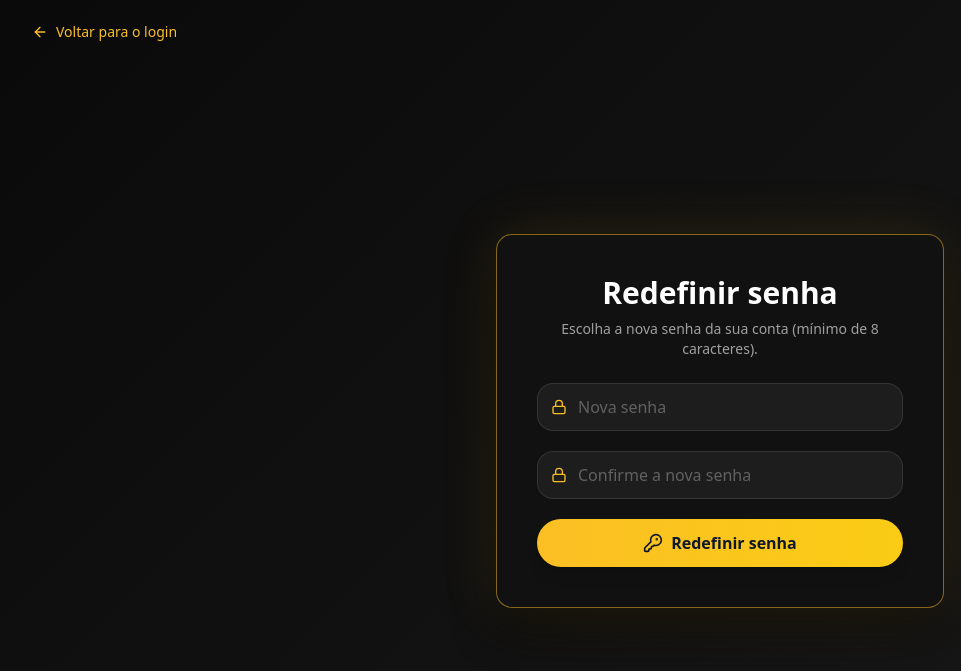
Test: RedefinirSenha › senha com menos de 8 caracteres é recusada
Type "1234567" into the password field with placeholder "Nova senha" at (720, 407), box [537,383,903,431]
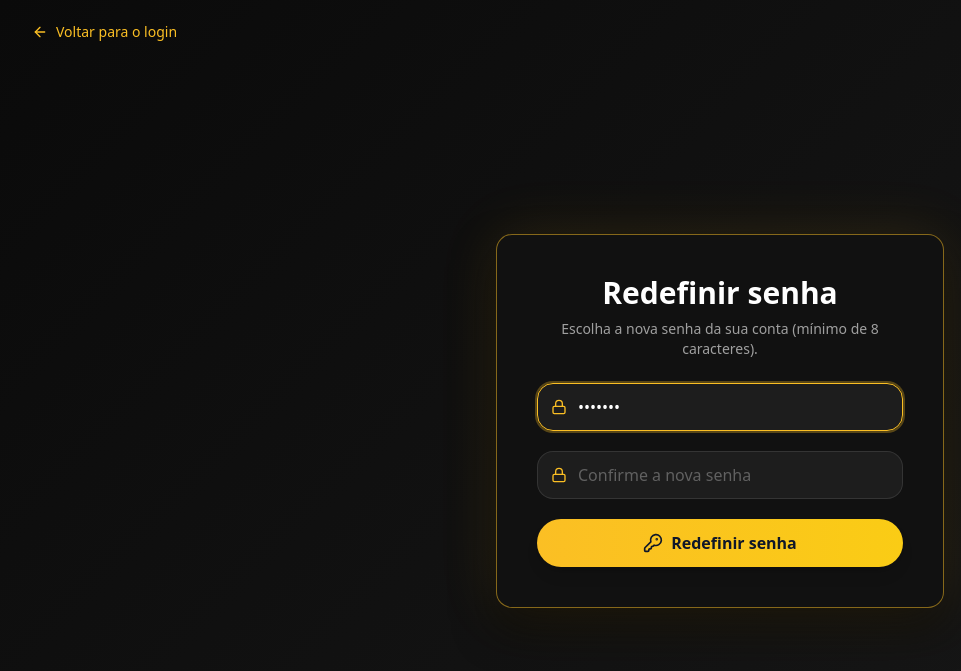
Type "1234567" into the password field with placeholder "Confirme a nova senha" at (720, 475), box [537,451,903,499]
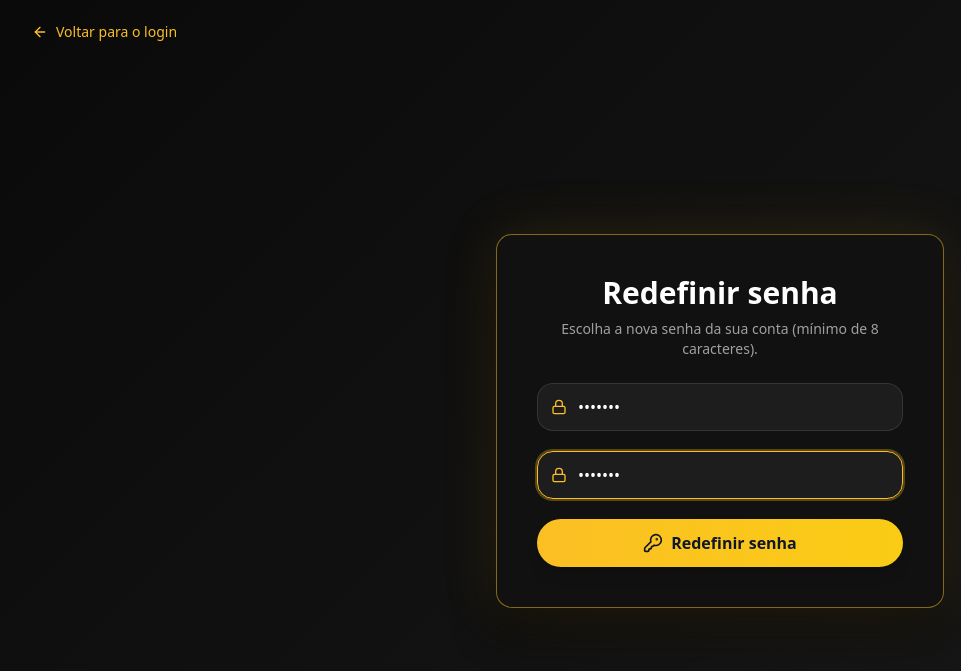
Click the button "Redefinir senha" at (720, 543), box [537,519,903,567]
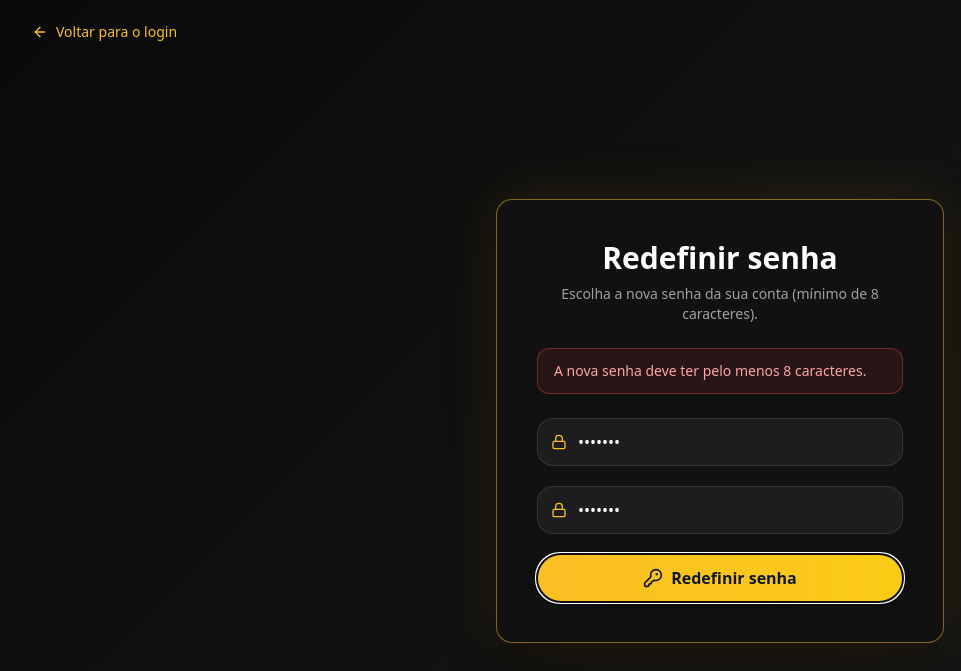
expect the text "A nova senha deve ter pelo menos 8 caracteres." is shown: met, box [537,348,903,394]
